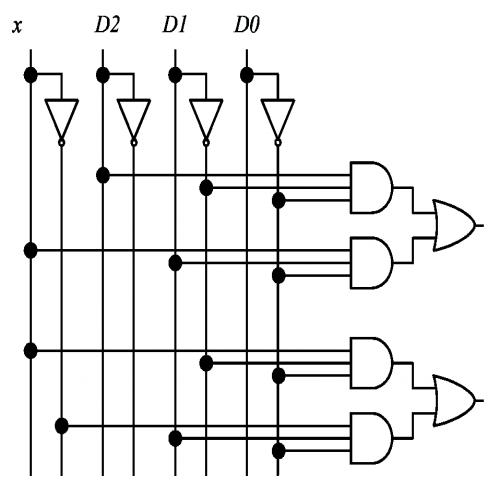and: (342, 155, 399, 220), (341, 331, 398, 396), (344, 232, 400, 295), (344, 408, 399, 469)
not: (257, 86, 300, 158), (187, 85, 225, 158), (42, 89, 82, 153), (115, 91, 153, 150)
or: (424, 192, 480, 260), (426, 369, 481, 433)
